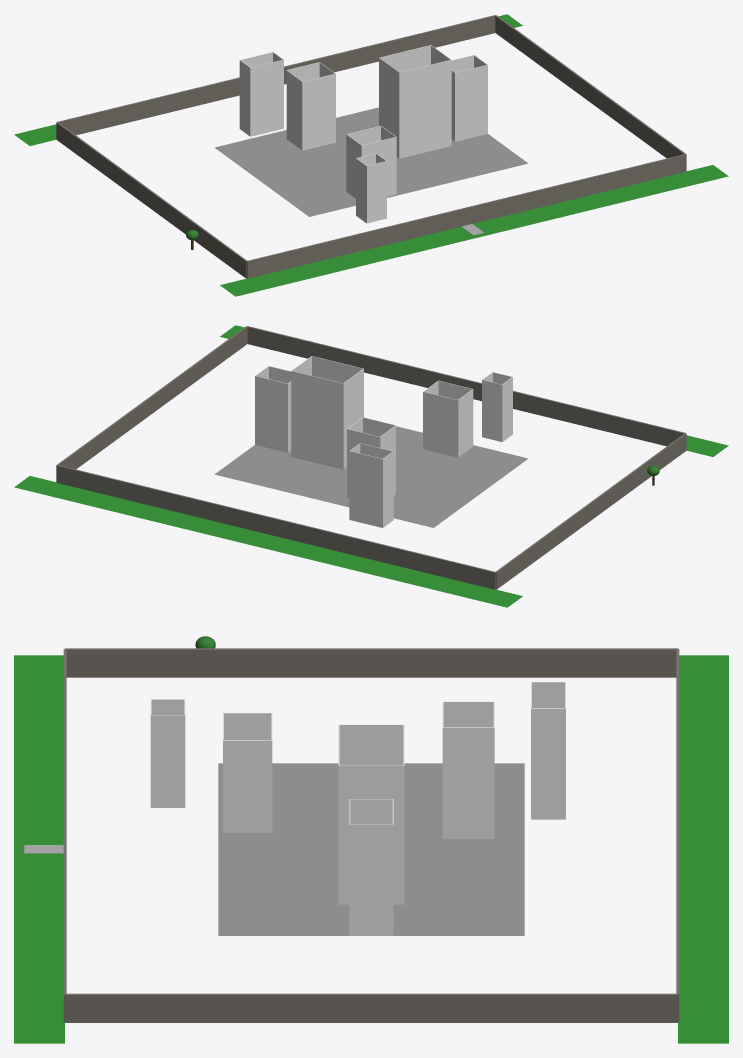
Rendered from enhanced_boq_8ee03090-8796-4954-96a1-6e882c8c2400.obj.
The picture shows the model from 3 angles, top to bottom: view 1: azimuth 30°, elevation 25°; view 2: azimuth 150°, elevation 25°; view 3: azimuth 270°, elevation 25°; orthographic projection. The views are drawn at different scales.
Visible parts, largest first — view 1: Foundation, ExteriorWall_South, FrontYard, ExteriorWall_North, SouthWall_Living_Room, ExteriorWall_West, ExteriorWall_East, SouthWall_Master_Bedroom, SouthWall_Kitchen, SouthWall_Dining_Room, WestWall_Living_Room, SouthWall_Bathroom (+7 smaller); view 2: Foundation, ExteriorWall_North, BackYard, ExteriorWall_South, NorthWall_Living_Room, ExteriorWall_West, ExteriorWall_East, NorthWall_Kitchen, NorthWall_Dining_Room, NorthWall_Office, NorthWall_Bathroom, WestWall_Living_Room (+6 smaller); view 3: Foundation, BackYard, FrontYard, ExteriorWall_East, ExteriorWall_West, EastWall_Master_Bedroom, EastWall_Dining_Room, EastWall_Office, EastWall_Living_Room, EastWall_Kitchen, EastWall_Bathroom, WestWall_Living_Room (+6 smaller).
Boxes of the visible parts, box(x1,y1,x2,y2) form: Foundation: box(214, 107, 528, 216); ExteriorWall_South: box(247, 154, 686, 278); FrontYard: box(220, 165, 728, 296); ExteriorWall_North: box(57, 15, 495, 135); SouthWall_Living_Room: box(399, 60, 451, 158); ExteriorWall_West: box(56, 122, 246, 278); ExteriorWall_East: box(495, 15, 686, 170); SouthWall_Master_Bedroom: box(302, 73, 335, 150); SouthWall_Kitchen: box(250, 59, 283, 136); SouthWall_Dining_Room: box(455, 65, 487, 141); WestWall_Living_Room: box(379, 57, 399, 158); SouthWall_Bathroom: box(366, 161, 386, 223); Foundation: box(214, 426, 528, 527); ExteriorWall_North: box(56, 465, 495, 589); BackYard: box(14, 476, 522, 607); ExteriorWall_South: box(247, 326, 685, 446); NorthWall_Living_Room: box(291, 371, 343, 469); ExteriorWall_West: box(496, 433, 686, 589); ExteriorWall_East: box(56, 326, 247, 481); NorthWall_Kitchen: box(349, 451, 382, 527); NorthWall_Dining_Room: box(255, 376, 287, 452); NorthWall_Office: box(423, 391, 457, 457); NorthWall_Bathroom: box(482, 380, 502, 441); WestWall_Living_Room: box(343, 368, 363, 469); Foundation: box(218, 763, 524, 935); BackYard: box(678, 655, 728, 1043); FrontYard: box(14, 655, 64, 1043); ExteriorWall_East: box(65, 993, 677, 1022); ExteriorWall_West: box(65, 648, 677, 677); EastWall_Master_Bedroom: box(443, 727, 494, 838); EastWall_Dining_Room: box(350, 824, 392, 935); EastWall_Office: box(223, 740, 271, 832); EastWall_Living_Room: box(339, 765, 403, 904); EastWall_Kitchen: box(531, 708, 565, 819); EastWall_Bathroom: box(151, 715, 184, 807); WestWall_Living_Room: box(339, 724, 403, 765).
Size of the model in its own units: 90 by 15 by 70.
